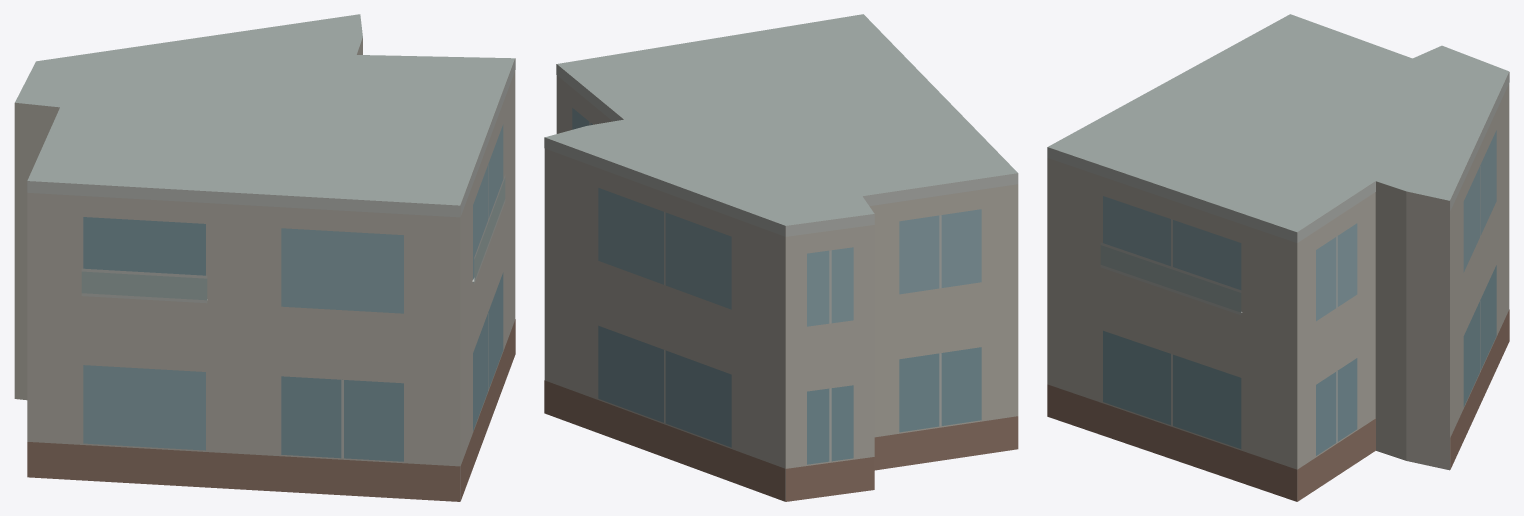
File: survey-upis-32780369.glb
3 views of the same model, side by side, from view 1: azimuth 30°, elevation 25°; view 2: azimuth 150°, elevation 25°; view 3: azimuth 270°, elevation 25° (orthographic). The views are drawn at different scales.
Parts seen in each view (by area): view 1: survey-upis-32780369.tmp; view 2: survey-upis-32780369.tmp; view 3: survey-upis-32780369.tmp.
Boxes of the visible parts, x1,y1,x2,y2 form: survey-upis-32780369.tmp: (14, 14, 515, 501); survey-upis-32780369.tmp: (544, 14, 1018, 501); survey-upis-32780369.tmp: (1047, 14, 1509, 501).
Size of the model in its own units: 10.6 by 6.1 by 9.49.
